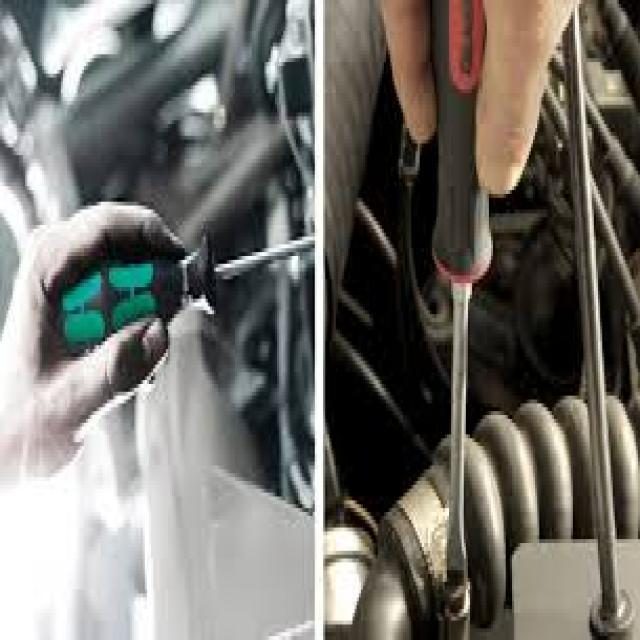screwdriver: (424, 0, 504, 621), (26, 208, 325, 372)
